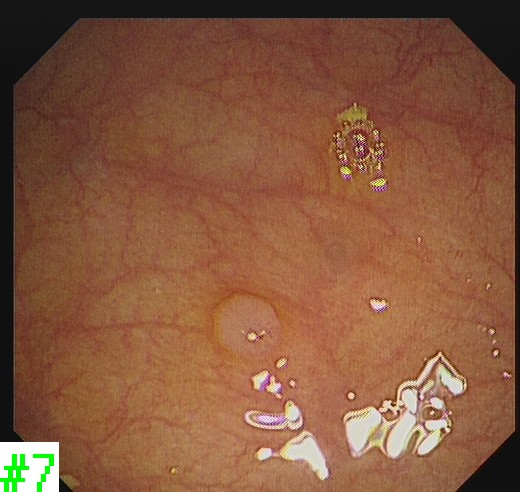adenoma: (210, 288, 282, 360)
